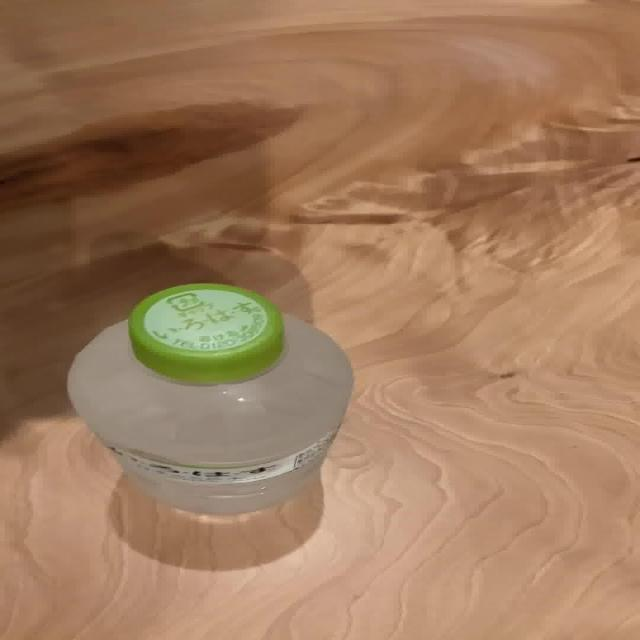chai: (68, 284, 352, 512)
